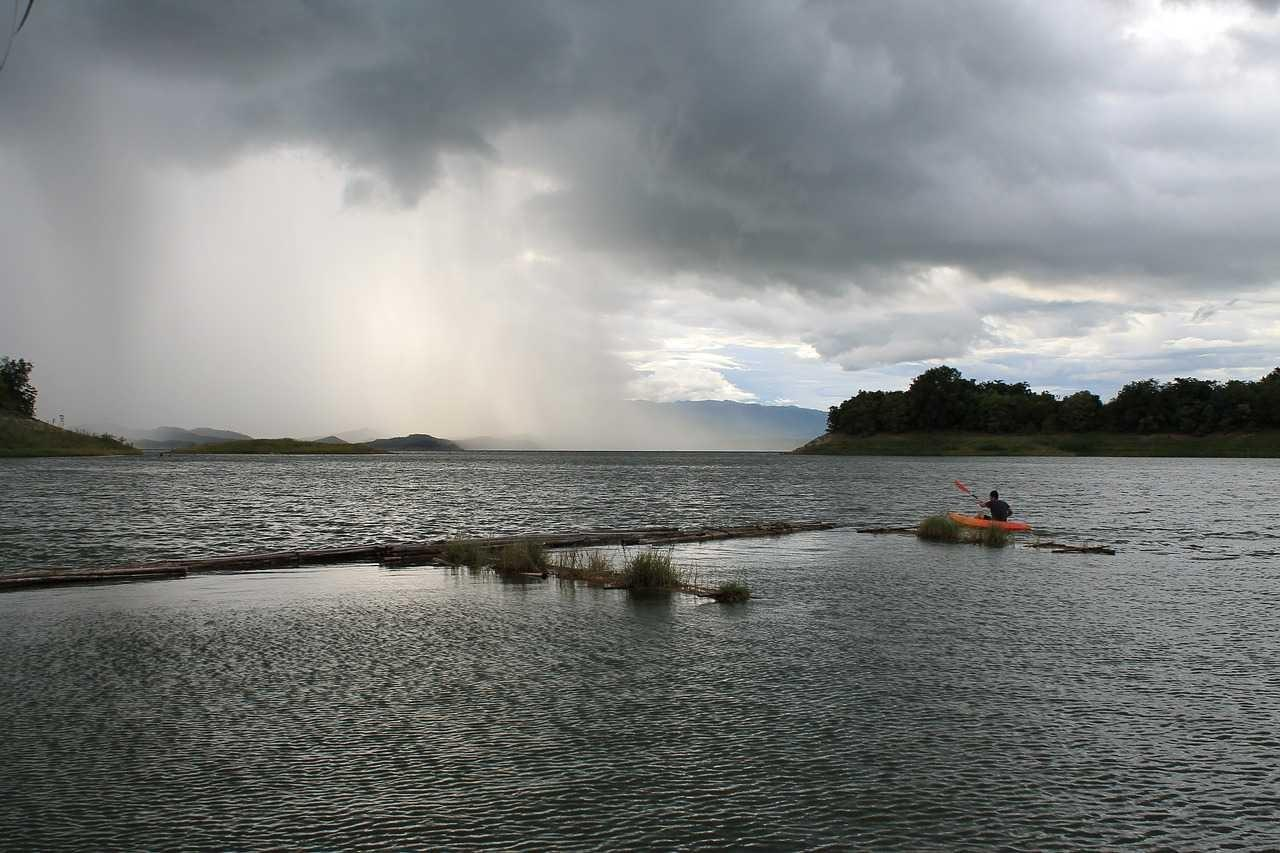kayak: (945, 513, 1032, 536)
